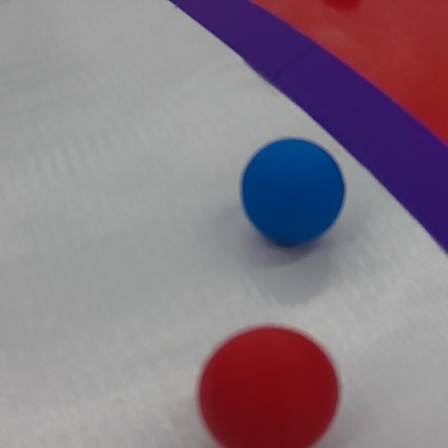blue: (240, 138, 347, 252)
red: (196, 325, 349, 448)
red_aim: (158, 0, 445, 265)
